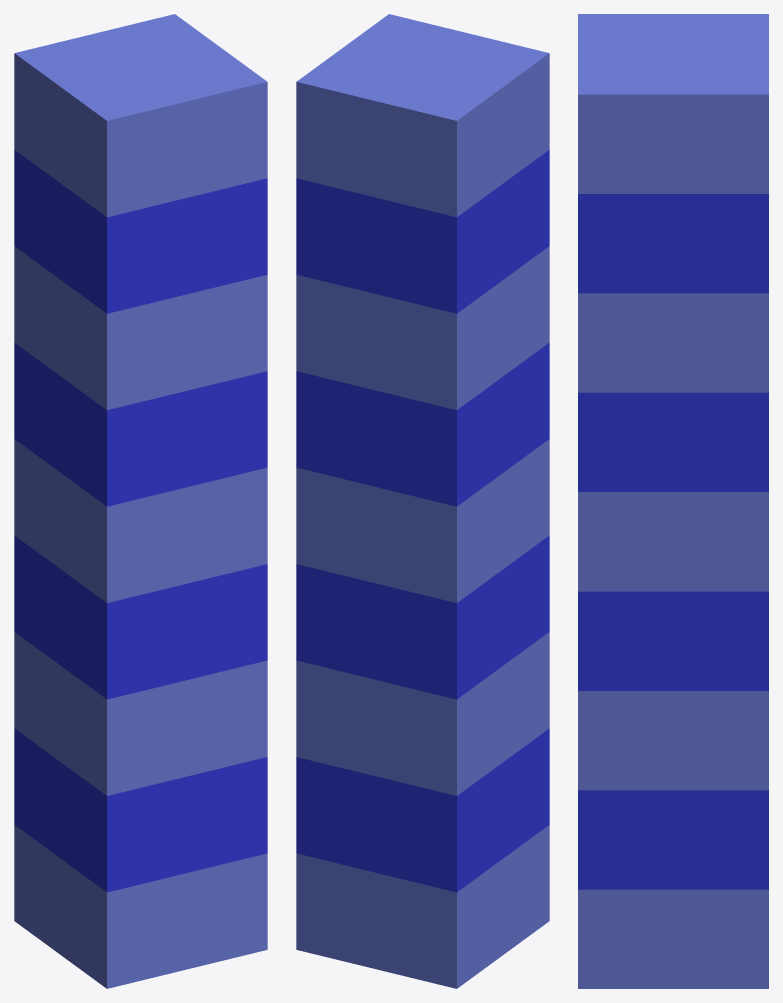
File: M_Building_02.fbx
The picture shows the model from 3 angles, left to right: view 1: azimuth 30°, elevation 25°; view 2: azimuth 150°, elevation 25°; view 3: azimuth 270°, elevation 25°; orthographic projection. The views are drawn at different scales.
Visible parts, largest first — view 1: M_Building_02; view 2: M_Building_02; view 3: M_Building_02.
Boxes of the visible parts, x1,y1,x2,y2 form: M_Building_02: (14, 14, 267, 988); M_Building_02: (296, 14, 549, 988); M_Building_02: (578, 14, 768, 988).
Size of the model in its own units: 9.76 by 50.45 by 9.76.
